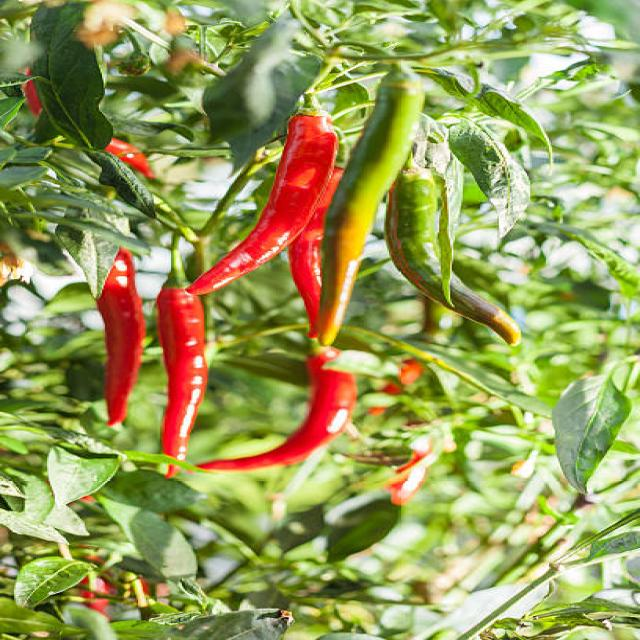Half-Ripe: (317, 62, 424, 344), (386, 169, 521, 345)
Ripe: (186, 114, 338, 294), (199, 348, 356, 471), (289, 169, 343, 337), (96, 248, 146, 426), (156, 288, 208, 459)
